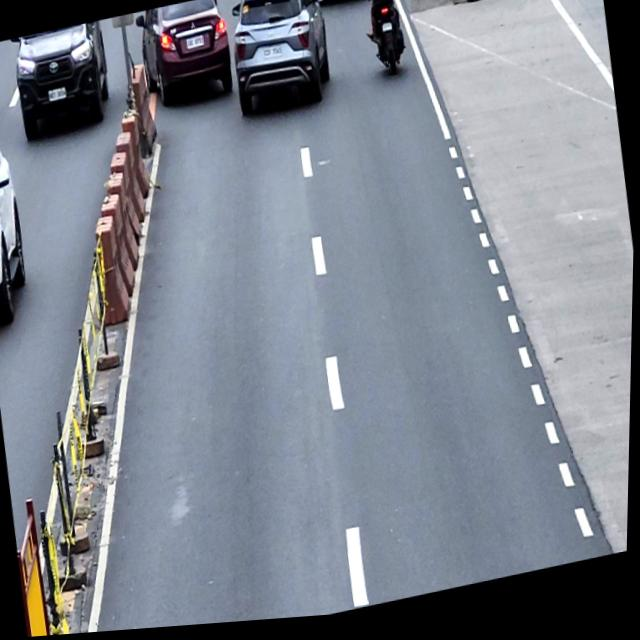Car: (225, 0, 338, 124), (8, 21, 116, 144), (133, 0, 237, 114), (0, 108, 36, 326)
License-Plate: (263, 48, 284, 65), (185, 37, 206, 53), (48, 87, 68, 103), (381, 27, 394, 39)
Motorcycle: (359, 0, 412, 85)
